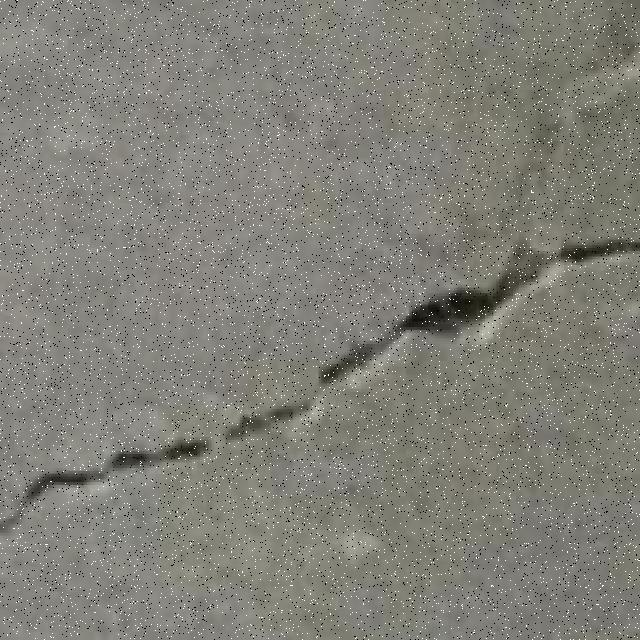Crack: (1, 234, 638, 532)
